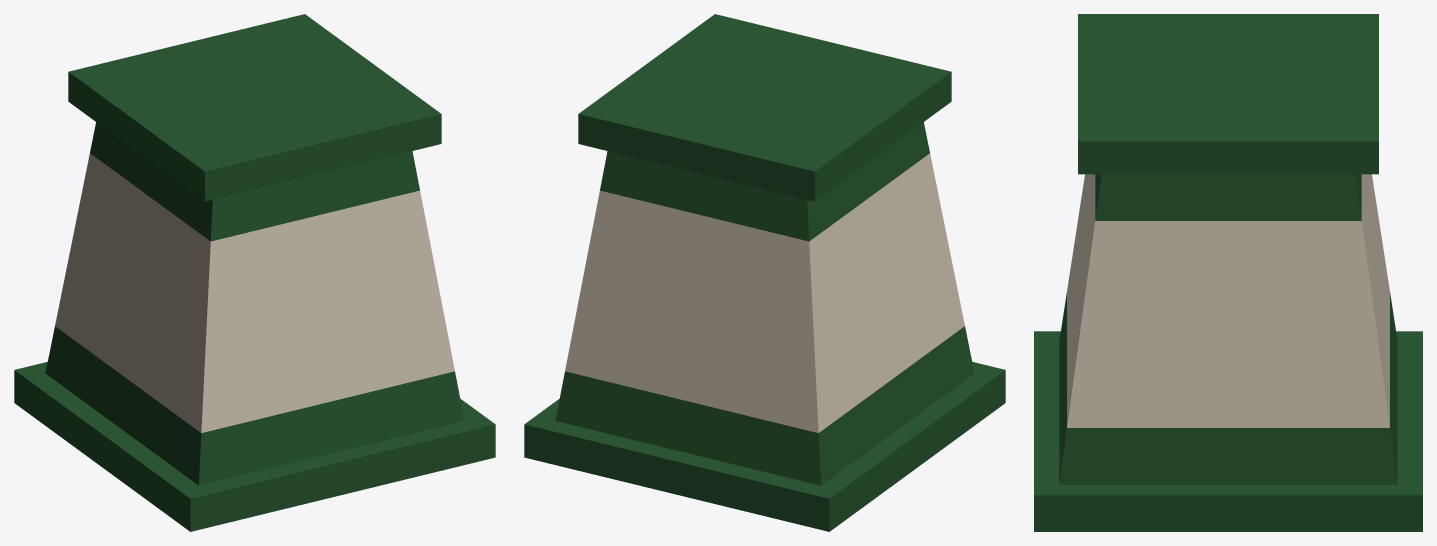
File: F_Stage_01.fbx
3 views of the same model, side by side, from view 1: azimuth 30°, elevation 25°; view 2: azimuth 150°, elevation 25°; view 3: azimuth 270°, elevation 25° (orthographic). The views are drawn at different scales.
Visible parts, largest first — view 1: F_Stage_01; view 2: F_Stage_01; view 3: F_Stage_01.
Boxes of the visible parts, x1,y1,x2,y2 form: F_Stage_01: (14,14,495,531); F_Stage_01: (524,14,1005,531); F_Stage_01: (1034,14,1422,531).
Bounding box in the file's own units: 155 × 164 × 155.
